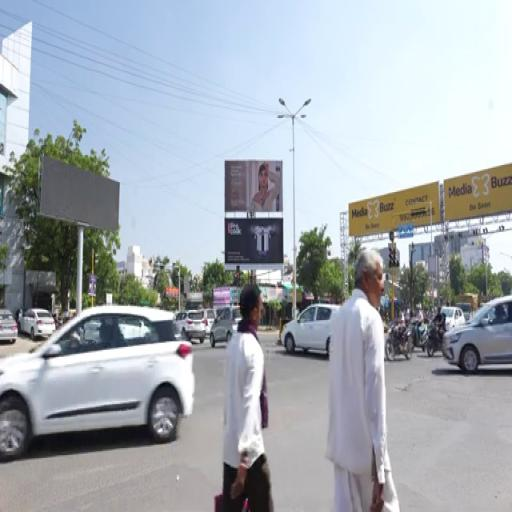Car: (0, 306, 195, 462), (443, 296, 511, 372), (282, 305, 339, 355), (210, 306, 240, 348), (18, 309, 55, 341), (176, 311, 206, 344), (182, 311, 206, 344), (442, 306, 466, 331), (0, 309, 17, 344), (202, 309, 215, 338)
